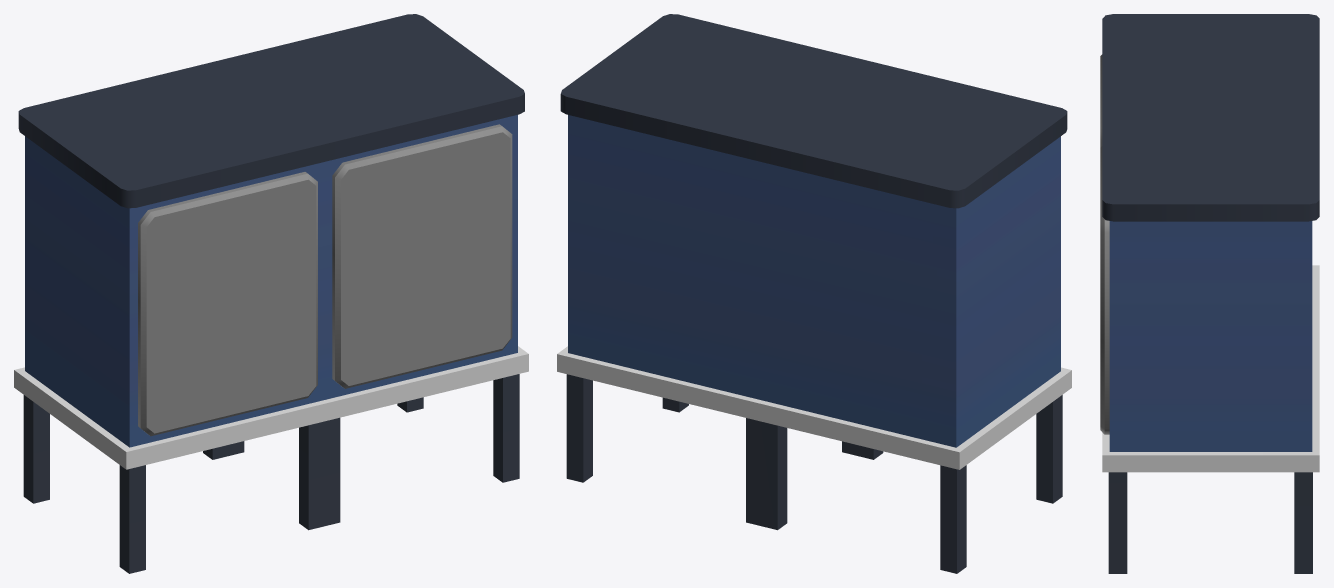
File: ElectricBox_1_C_2.fbx
3 views of the same model, side by side, from view 1: azimuth 30°, elevation 25°; view 2: azimuth 150°, elevation 25°; view 3: azimuth 270°, elevation 25° (orthographic). The views are drawn at different scales.
Visible parts, largest first — view 1: ElectricBox_1_C_2; view 2: ElectricBox_1_C_2; view 3: ElectricBox_1_C_2.
Part boxes in pixels (box(x1,y1,x2,y2)): ElectricBox_1_C_2: box(14, 14, 528, 573); ElectricBox_1_C_2: box(557, 14, 1071, 573); ElectricBox_1_C_2: box(1100, 14, 1319, 573).
Size of the model in its own units: 251 by 229 by 122.
